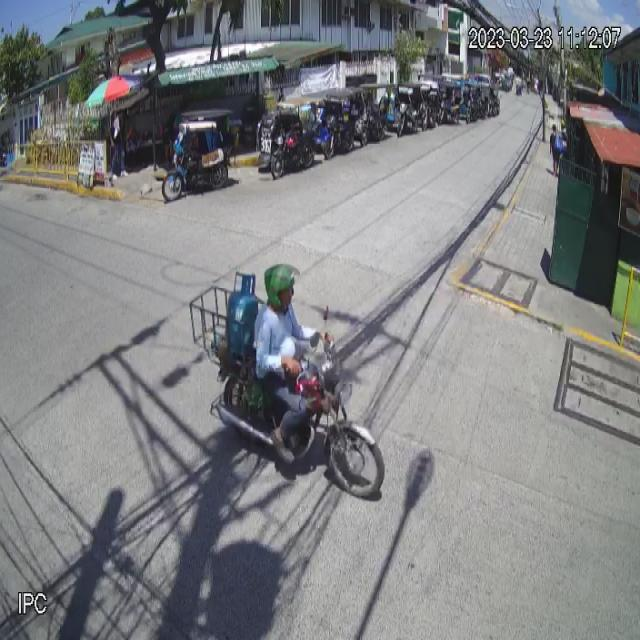Motorcycle: (208, 304, 386, 502)
